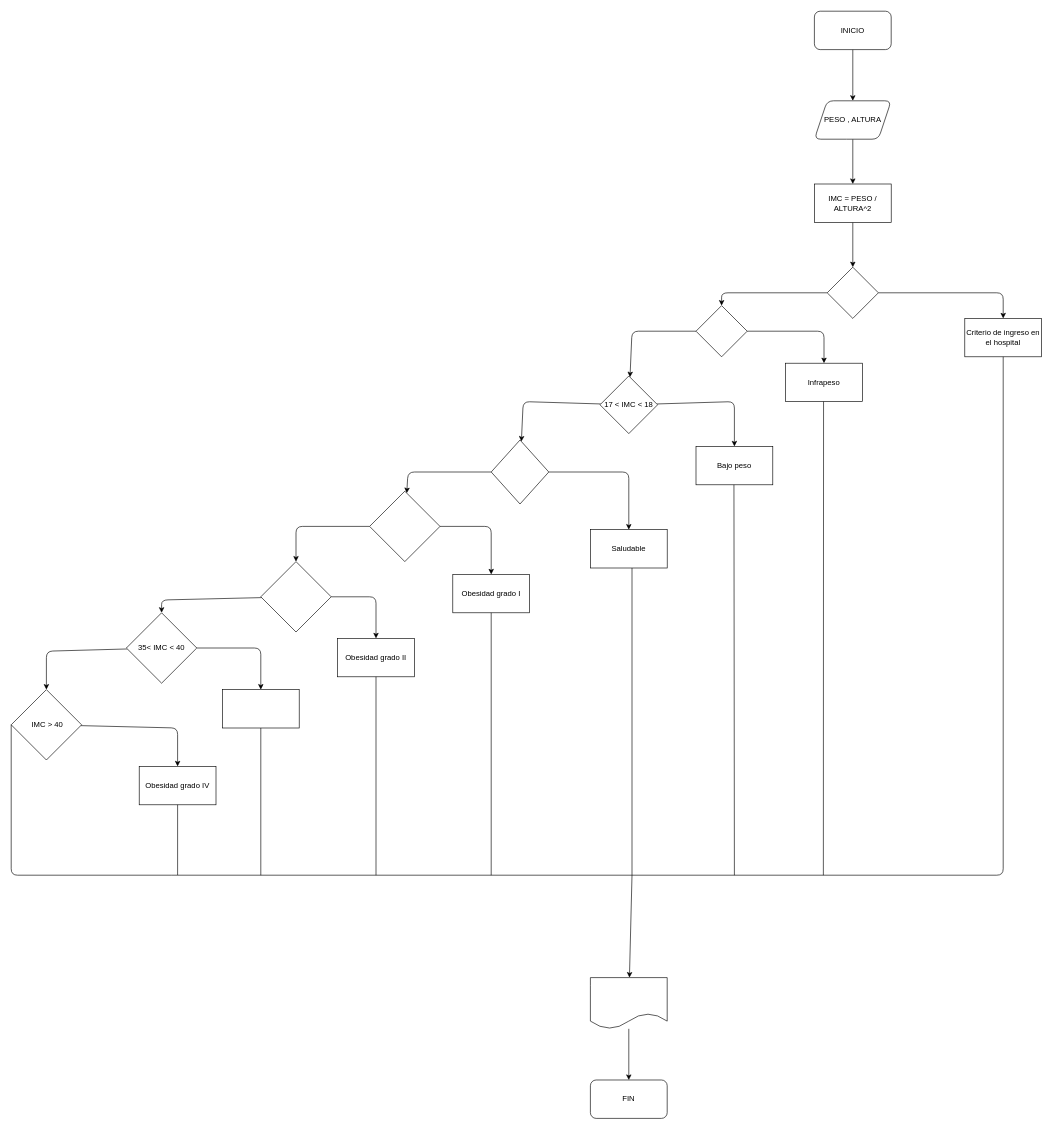
This 1053x1130 diagram has some shape labels left out. The box of each missing label's shape, as (x1, y1, x2, y2) in pixels:
16<IMC<17: (695, 305, 747, 357)
18 < IMC < 25: (491, 439, 549, 504)
25 < IMC < 30: (369, 491, 440, 562)
30 < IMC < 35: (260, 561, 331, 632)
IMC > 16: (827, 267, 878, 318)
MSJ: (590, 977, 667, 1029)
Obesidad grado III: (222, 689, 299, 728)
